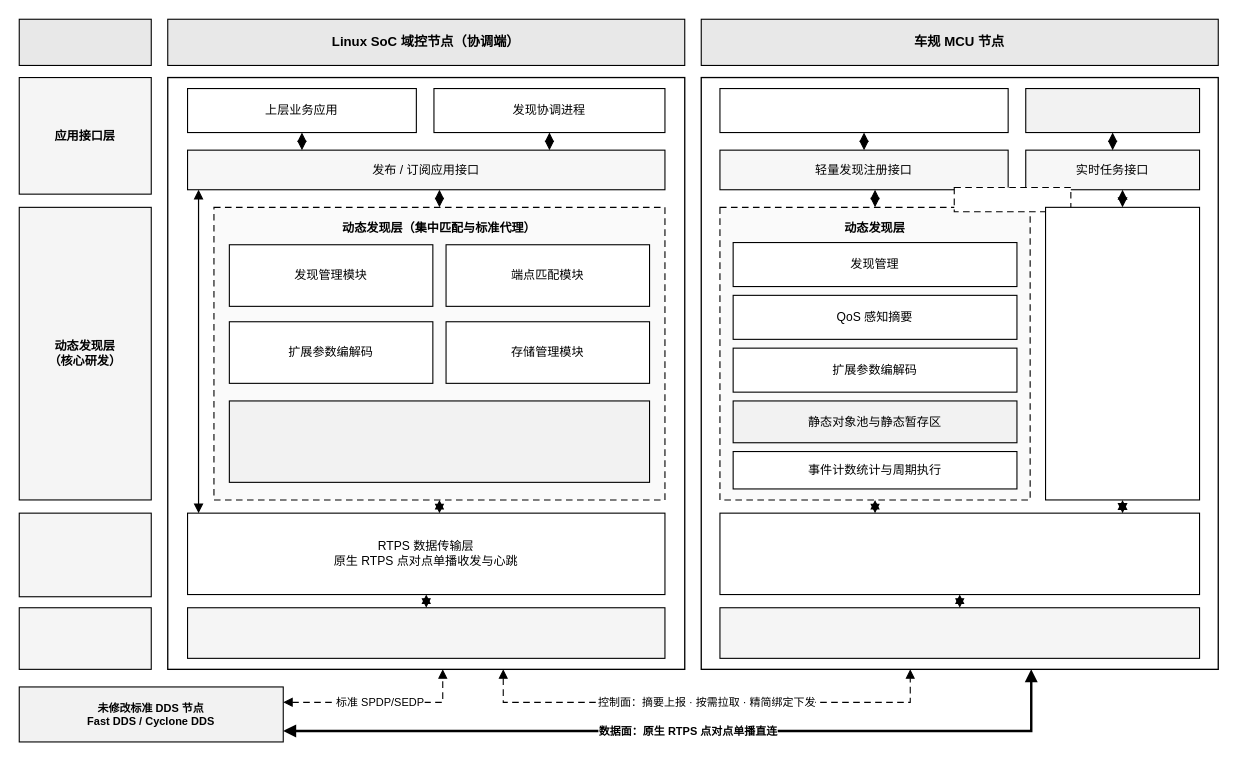
This 1239x761 diagram has some shape labels left out. The shapes that lost their labels are listed below. From the top down, each one's centre as x and y in pixels, then its label:
At pixel 84 41: "软件层次".
At pixel 863 110: "低优先级发现任务".
At pixel 1112 110: "高优先级实时控制任务".
At pixel 1012 199: "任务与内存隔离".
At pixel 1122 353: "RTOS 实时任务".
At pixel 439 441: "性能建模与参数调优模块".
At pixel 84 554: "RTPS 数据 传输层".
At pixel 959 553: "RTPS 数据传输层 点对点单播原生 RTPS 直连收发（Micro-CDR）".
At pixel 84 638: "平台适配层".
At pixel 425 632: "Linux POSIX 平台适配层".
At pixel 959 632: "FreeRTOS / lwIP 适配层".
